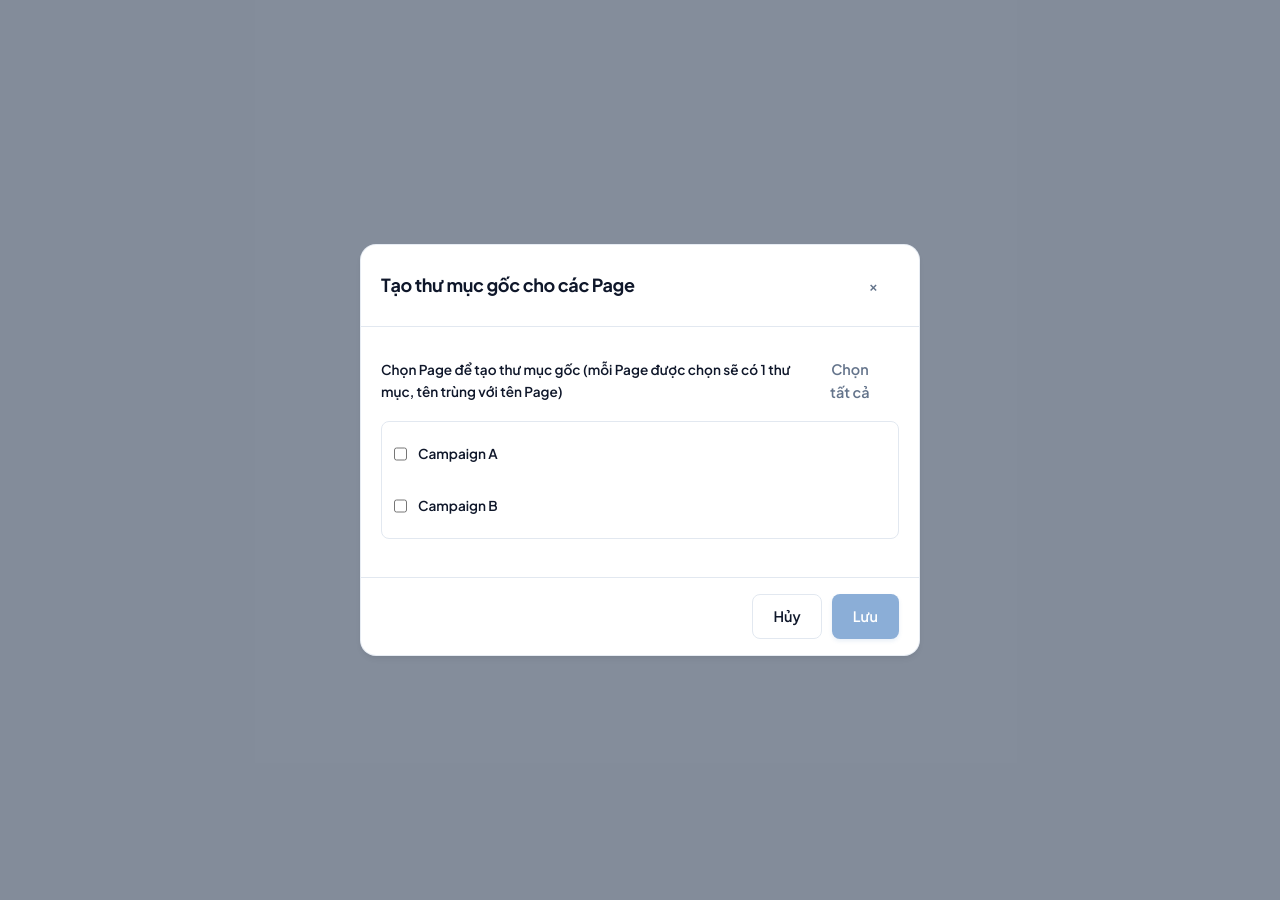
Test: MediaFolderFormModal three modes › page-roots mode › supports select/deselect all
Click the button "Chọn tất cả". click: (850, 381)
box: [801,347,899,415]
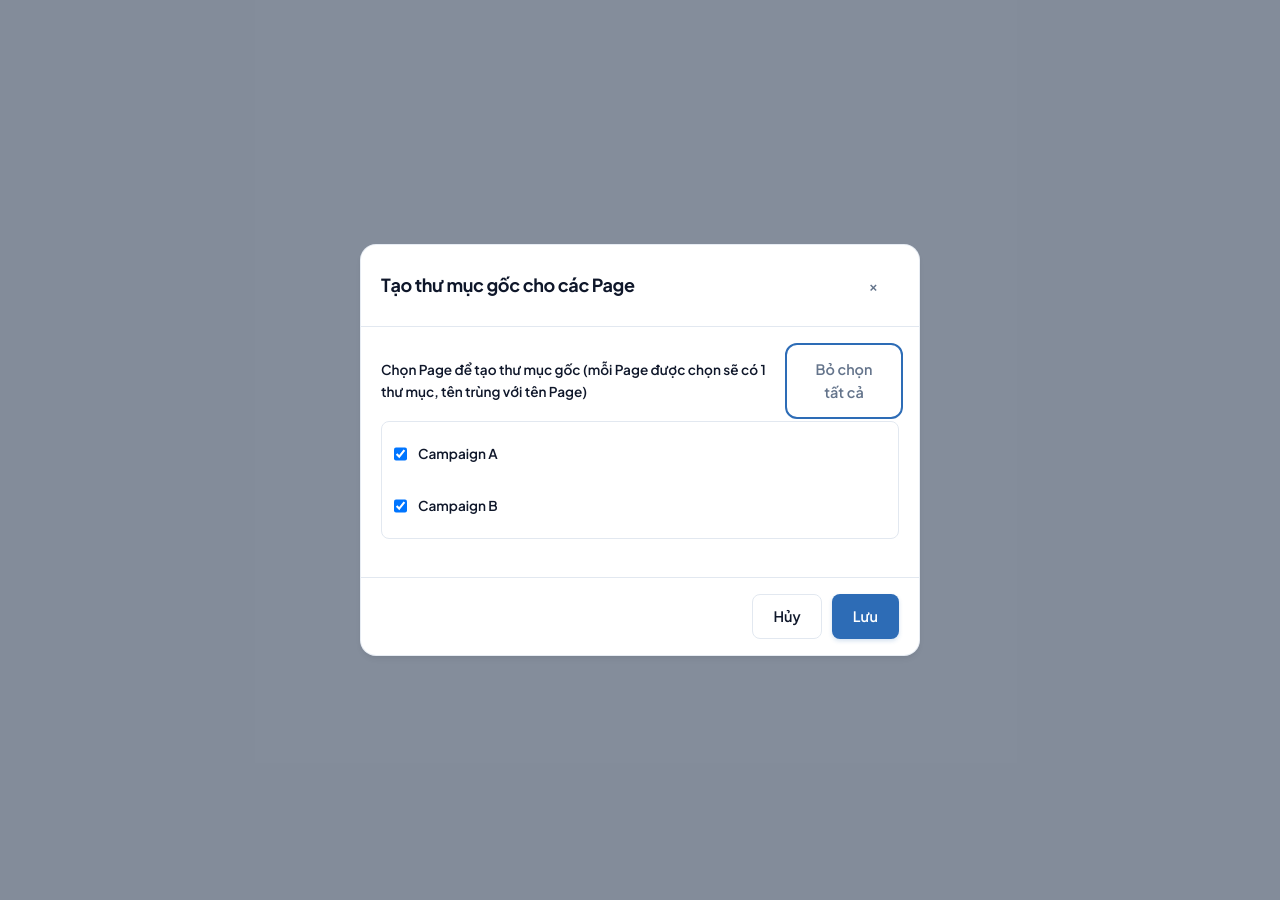
Check: the checkbox labelled "Campaign A" is checked, box [394,433,407,475]
Check: the checkbox labelled "Campaign B" is checked, box [394,485,407,527]
